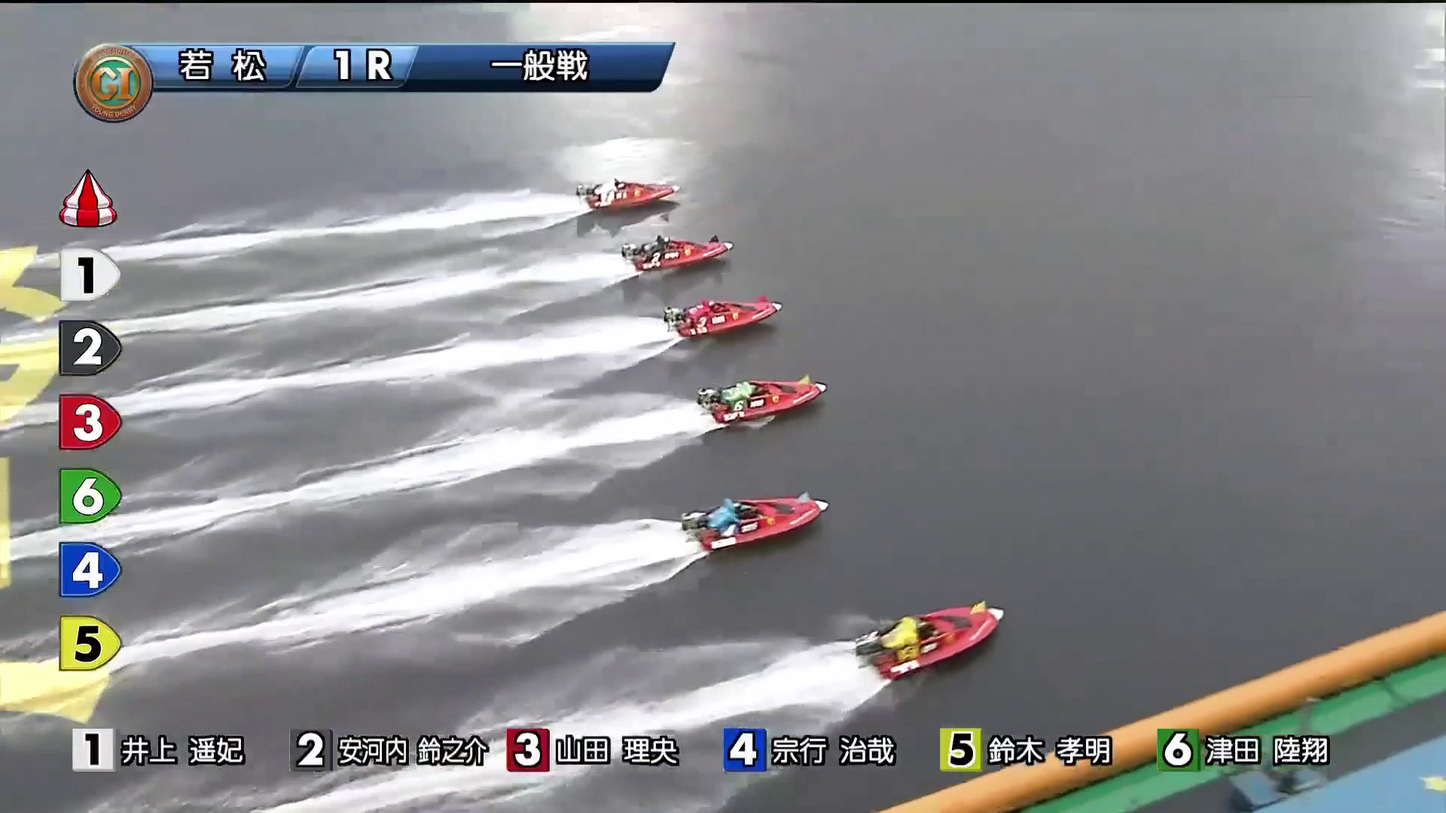１号艇: (593, 173, 668, 212)
２号艇: (624, 229, 727, 267)
３号艇: (665, 292, 790, 333)
４号艇: (704, 370, 809, 413)
５号艇: (681, 491, 801, 546)
６号艇: (826, 605, 984, 662)
